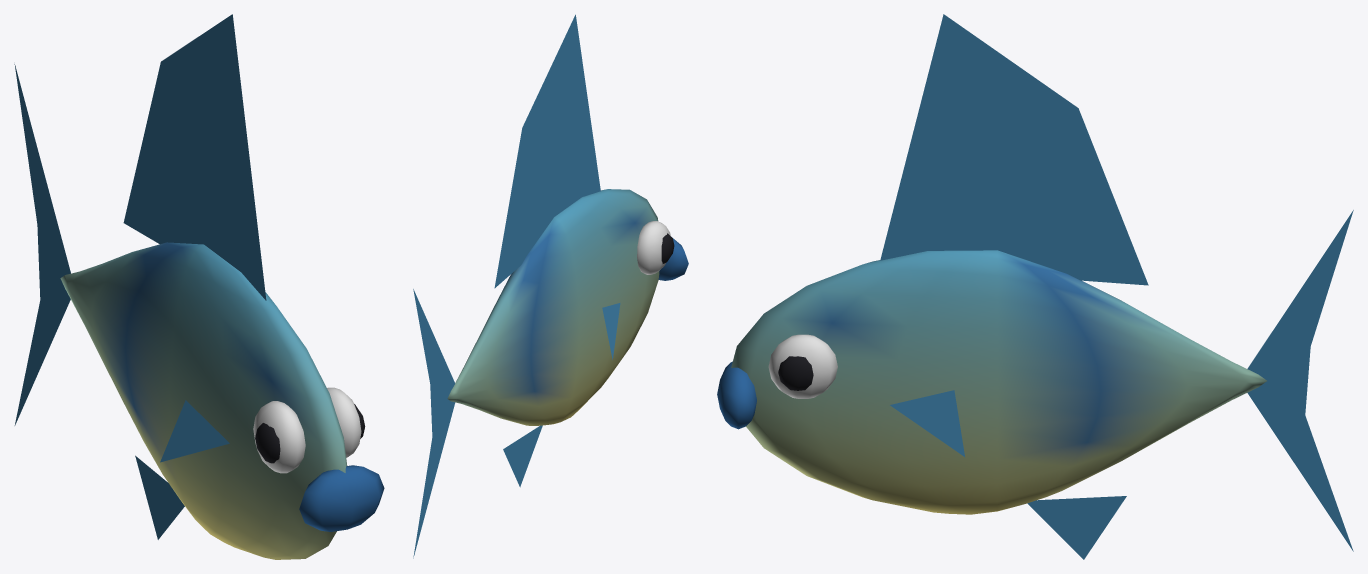
Rendered from drueckerfisch-TQdjL9yd.glb.
3 views of the same model, side by side, from view 1: azimuth 30°, elevation 25°; view 2: azimuth 150°, elevation 25°; view 3: azimuth 270°, elevation 25° (orthographic). The views are drawn at different scales.
Visible parts, largest first — view 1: drueckerfisch; view 2: drueckerfisch; view 3: drueckerfisch.
Part boxes in pixels (x1,y1,x2,y2): drueckerfisch: (14,14,384,559); drueckerfisch: (413,14,688,558); drueckerfisch: (717,14,1353,559).
Bounding box in the file's own units: 0.246 × 1.12 × 1.18.
